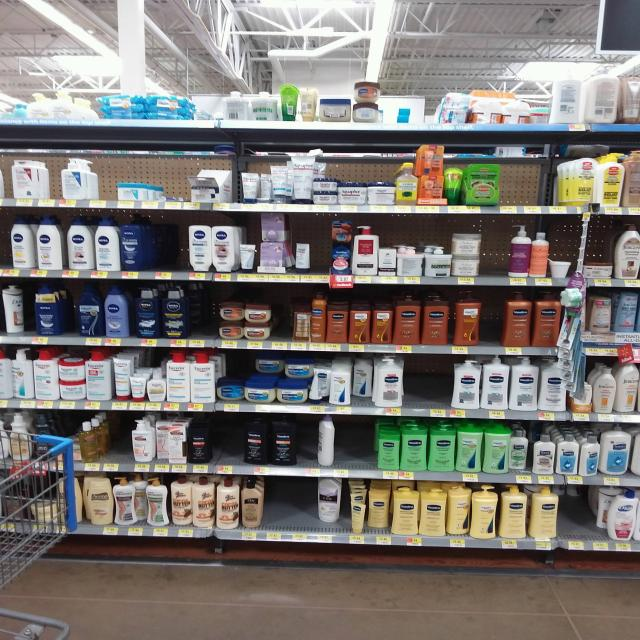void: (388, 46, 435, 120), (506, 143, 562, 205), (268, 478, 314, 534), (563, 488, 604, 540), (407, 357, 446, 408), (150, 216, 186, 271), (338, 418, 374, 470), (152, 156, 188, 200), (215, 416, 242, 465), (190, 284, 212, 340), (197, 67, 220, 120), (92, 157, 114, 199)
